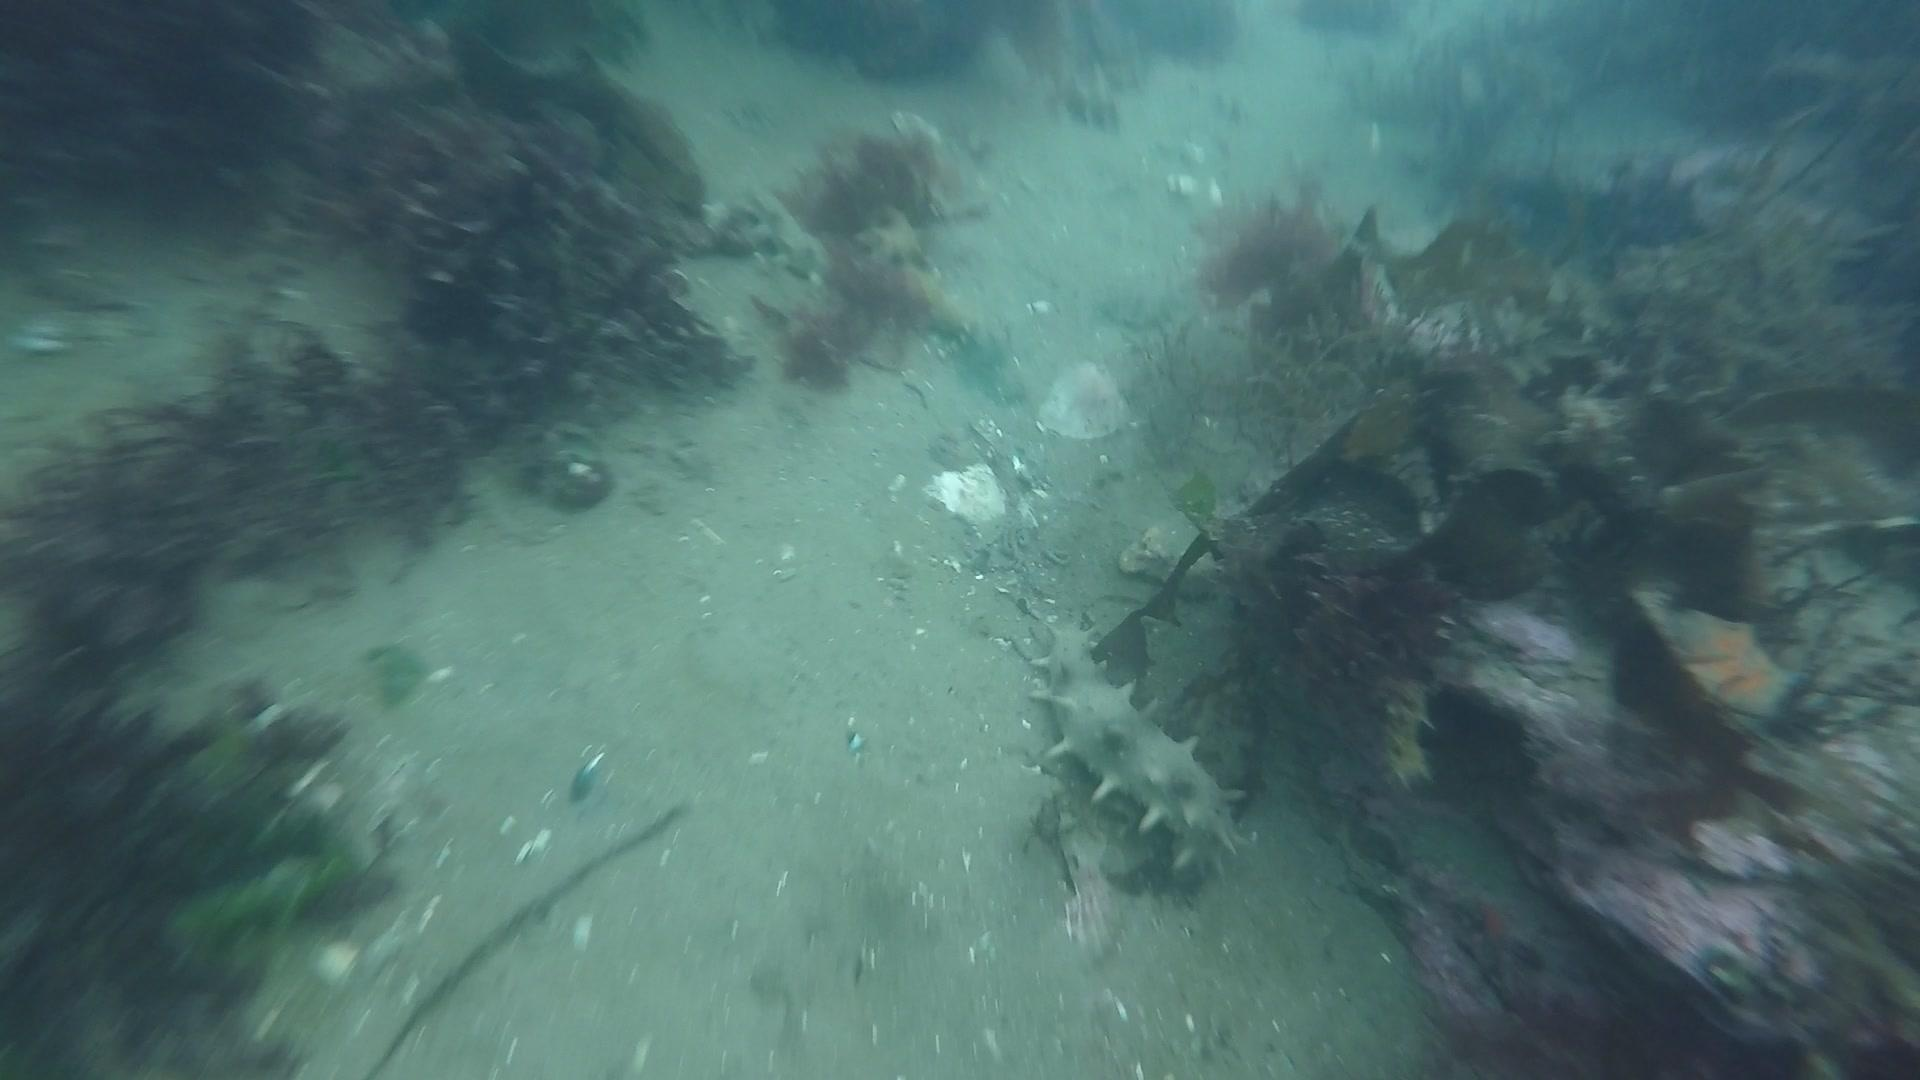holothurian: (1019, 616, 1250, 887), (157, 839, 404, 980), (851, 206, 997, 355), (737, 191, 836, 272)
starfish: (1662, 604, 1809, 738), (1443, 869, 1552, 986)
